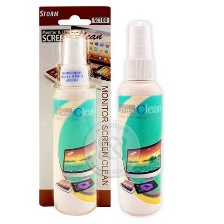book: (34, 1, 113, 209)
cleaning_solution: (112, 15, 165, 219), (48, 30, 99, 217)
